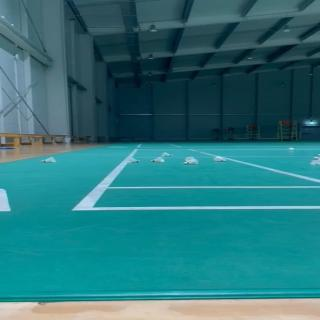Shuttle: (308, 156, 320, 165), (150, 156, 164, 163), (41, 156, 56, 162), (184, 158, 198, 164), (127, 157, 140, 163), (184, 156, 195, 162), (213, 156, 226, 161), (161, 152, 173, 157), (316, 154, 320, 163), (288, 147, 294, 151)
